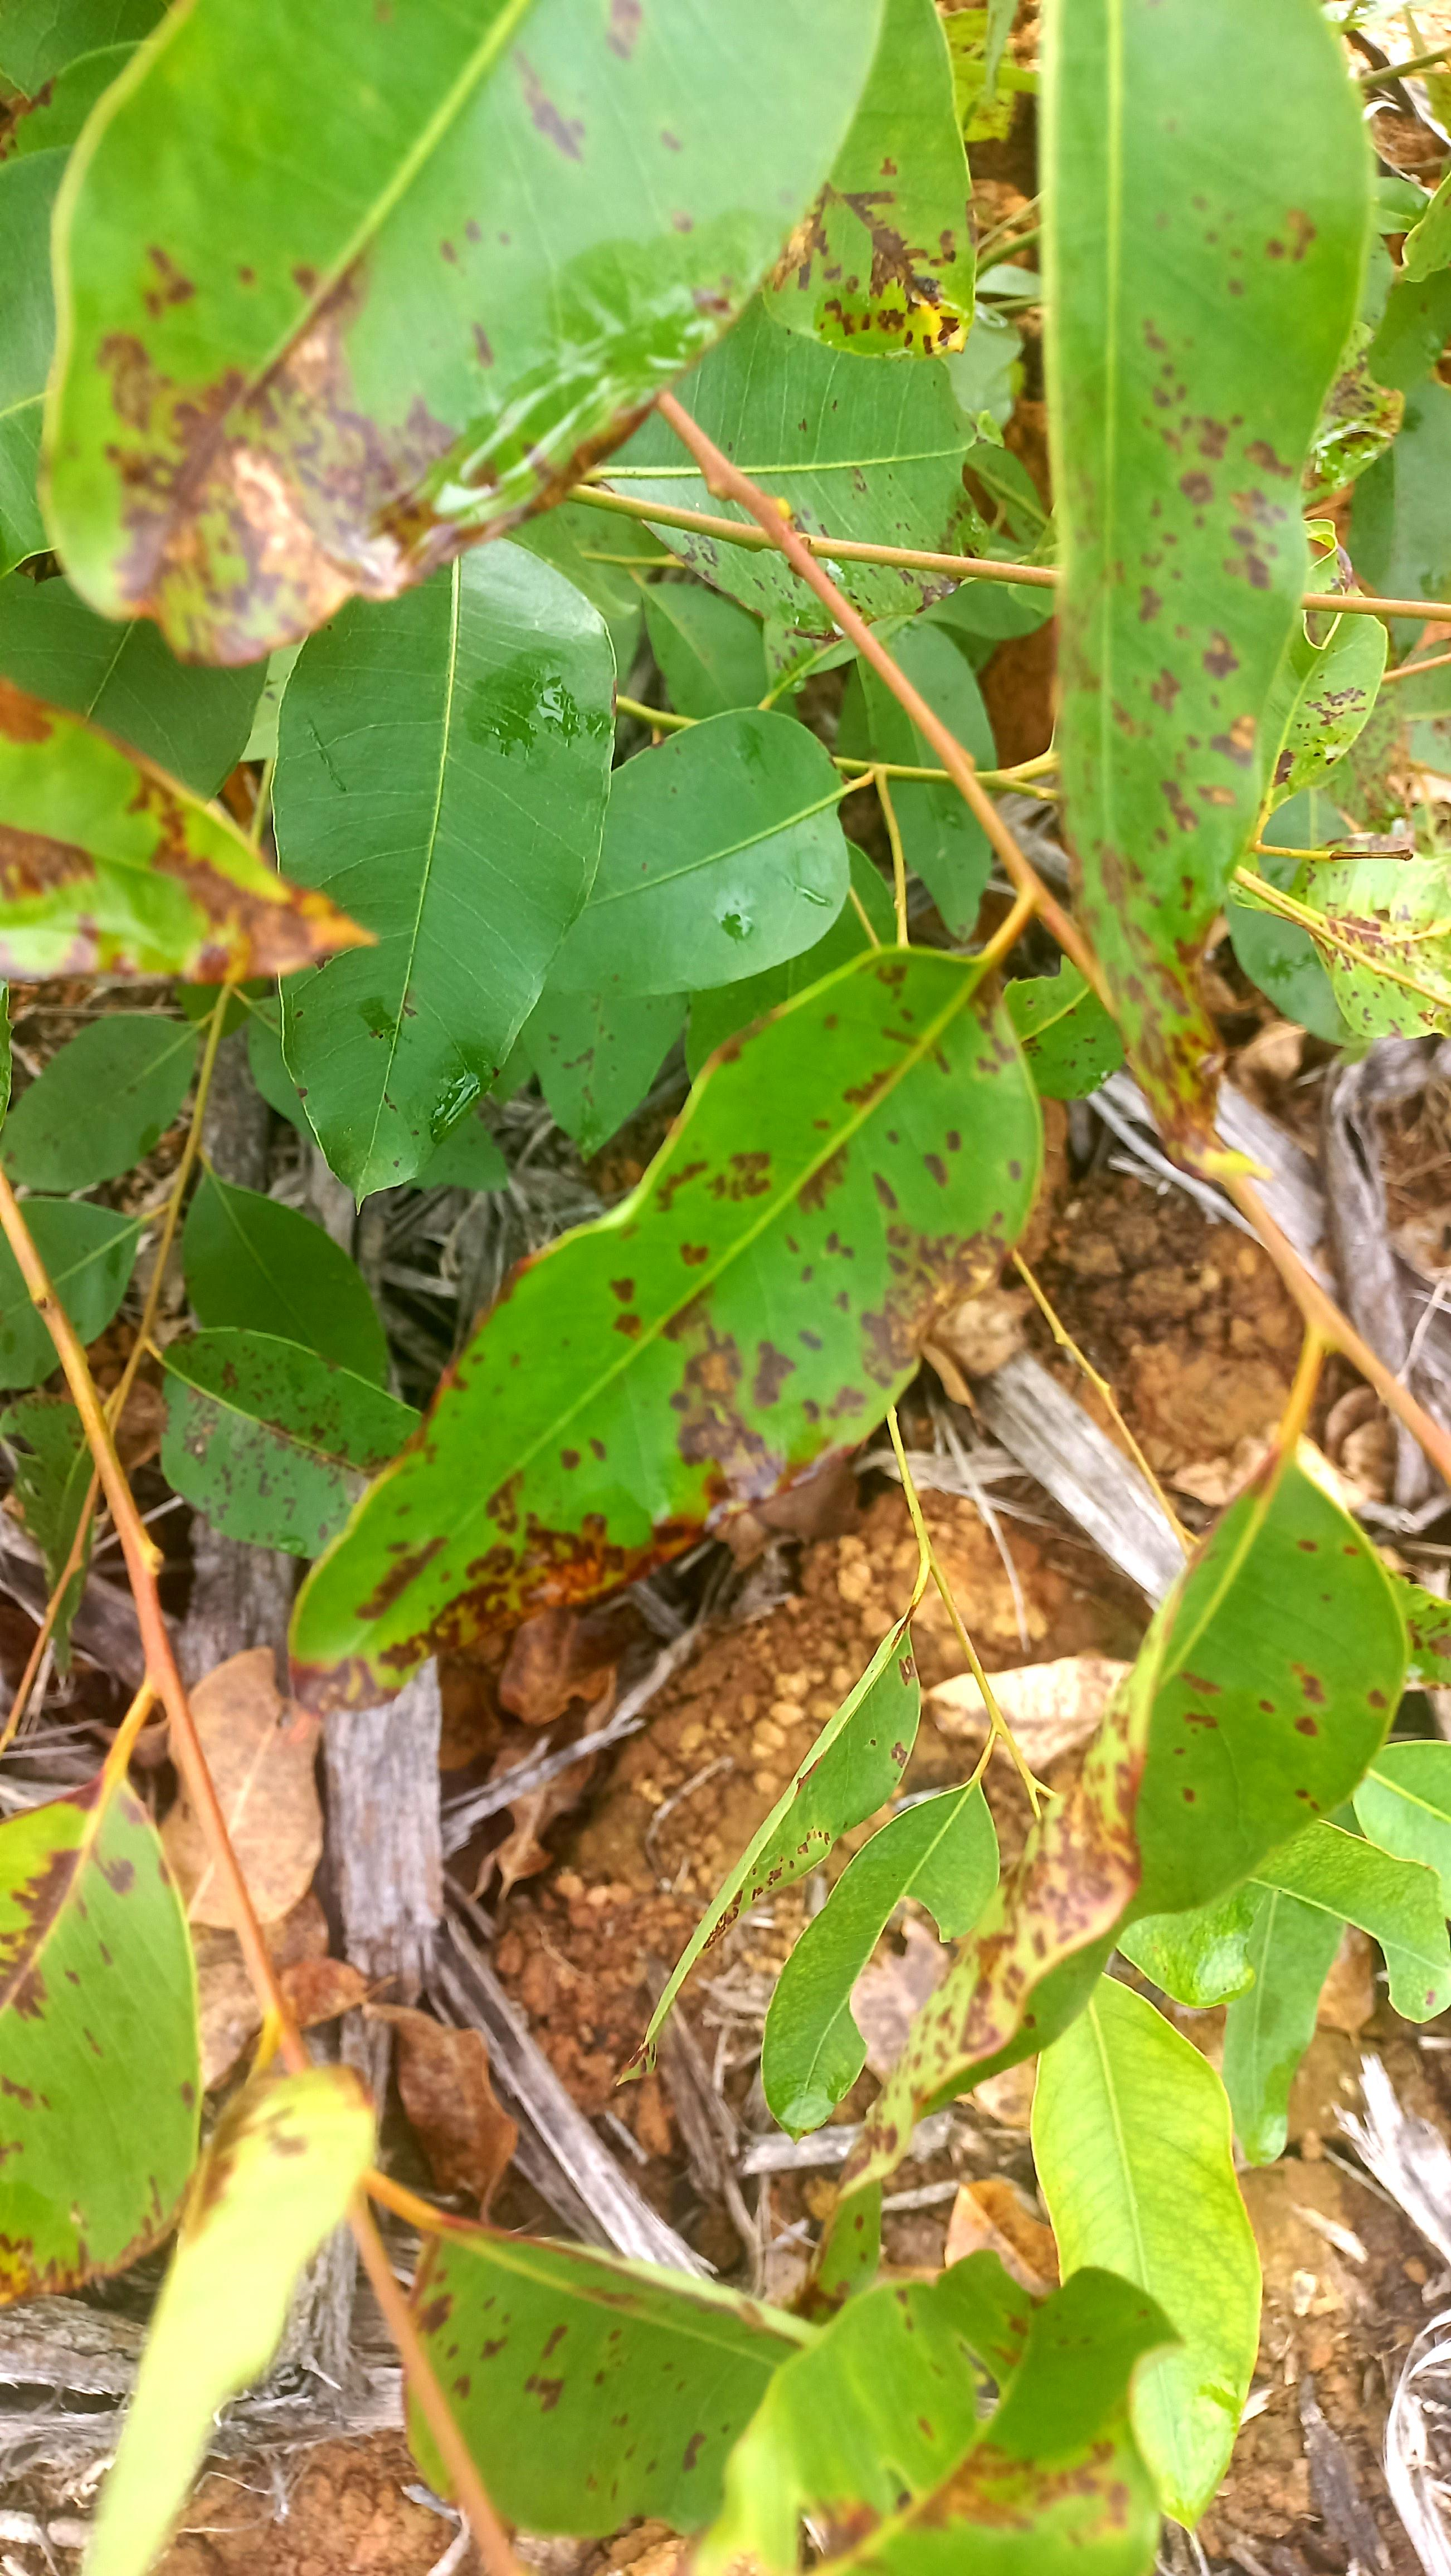Xanthomonas: (35, 7, 938, 660), (257, 971, 1014, 1734), (876, 1458, 1451, 2174), (1055, 2, 1366, 1200), (697, 2258, 1194, 2576), (0, 683, 409, 1003), (0, 1789, 212, 2318), (832, 14, 987, 352)
